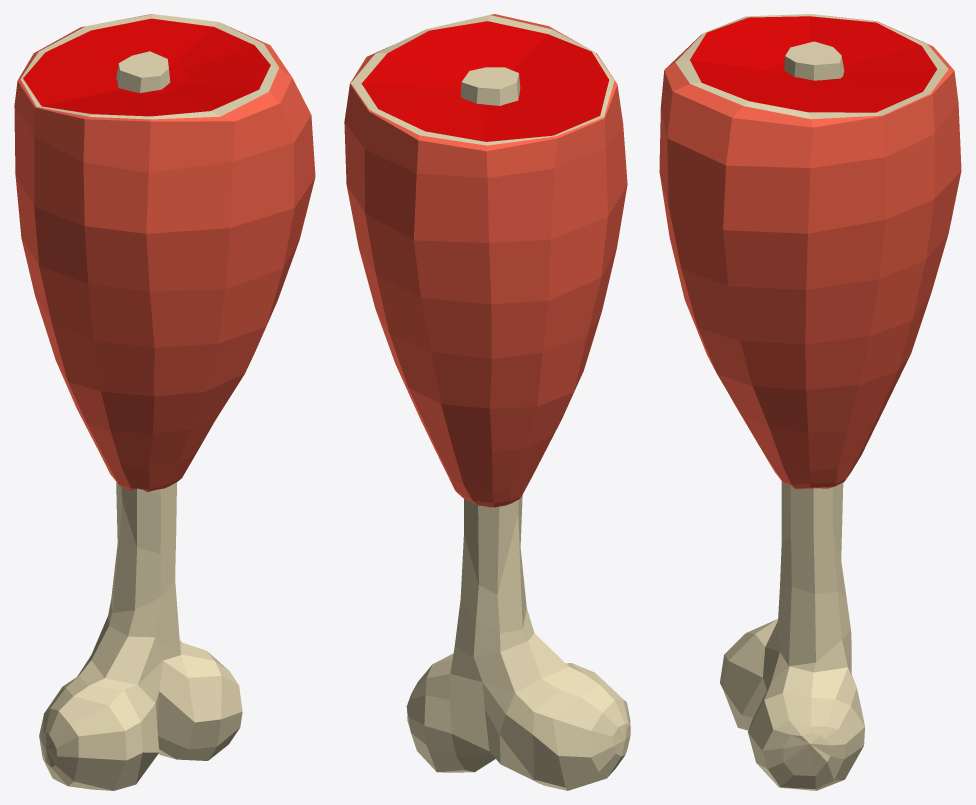
File: Saehrimnir.fbx
3 renders of one model, left to right at view 1: azimuth 30°, elevation 25°; view 2: azimuth 150°, elevation 25°; view 3: azimuth 270°, elevation 25°, orthographic. The views are drawn at different scales.
Parts seen in each view (by area): view 1: Cylinder.008, Cylinder.002; view 2: Cylinder.008, Cylinder.002; view 3: Cylinder.008, Cylinder.002.
Boxes of the visible parts, bbox=[...] form: Cylinder.008: bbox=[14, 14, 315, 491]; Cylinder.002: bbox=[39, 51, 242, 790]; Cylinder.008: bbox=[344, 14, 627, 507]; Cylinder.002: bbox=[406, 67, 630, 790]; Cylinder.008: bbox=[659, 14, 961, 489]; Cylinder.002: bbox=[720, 41, 864, 790].
Size of the model in its own units: 20.16 by 53.99 by 20.56.
